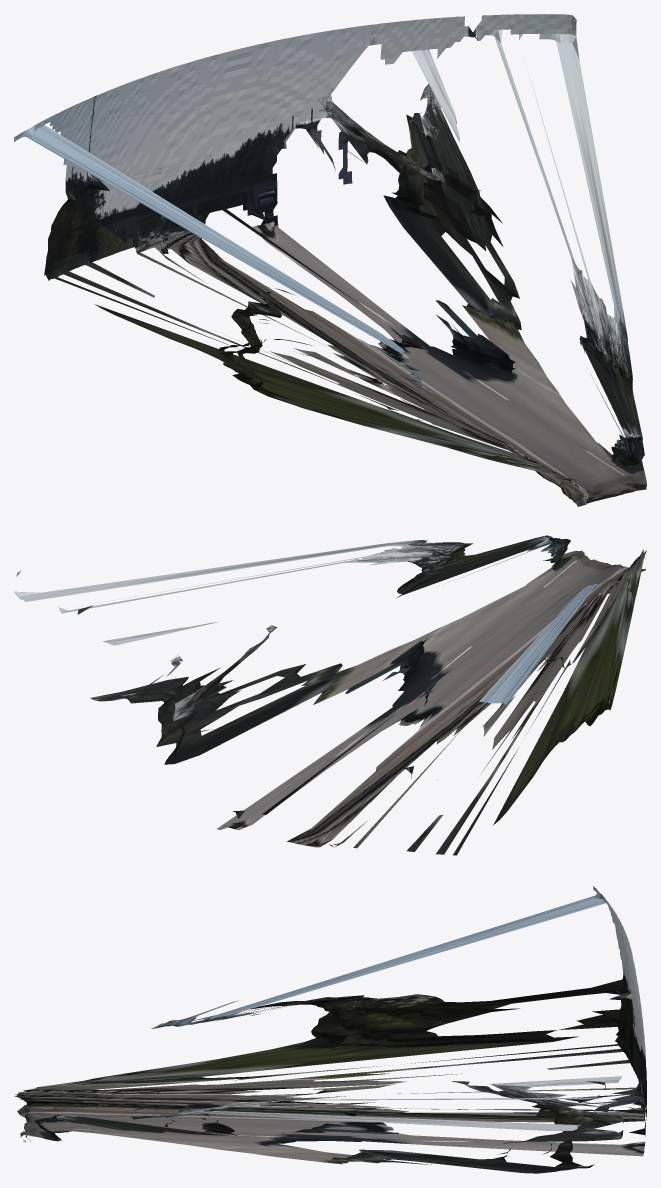
3 renders of one model, top to bottom at view 1: azimuth 30°, elevation 25°; view 2: azimuth 150°, elevation 25°; view 3: azimuth 270°, elevation 25°, orthographic. The views are drawn at different scales.
Parts seen in each view (by area): view 1: defaultobject; view 2: defaultobject; view 3: defaultobject.
Part boxes in pixels (box(x1,y1,x2,y2)): defaultobject: box(14, 14, 646, 506); defaultobject: box(14, 535, 646, 855); defaultobject: box(14, 886, 646, 1173).
Bounding box in the file's own units: 37.23 × 12.47 × 44.84.
Materials: 1 (1 with a texture image).
